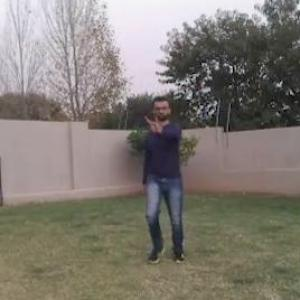takeoff-hand: (139, 114, 168, 144)
